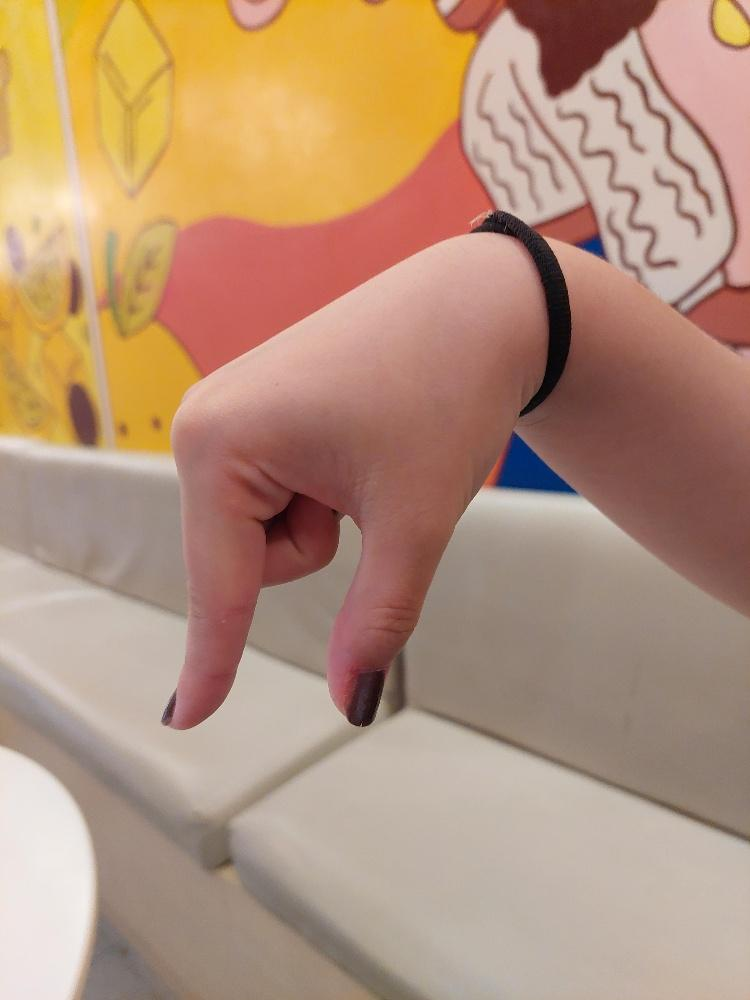q: (156, 218, 533, 732)
